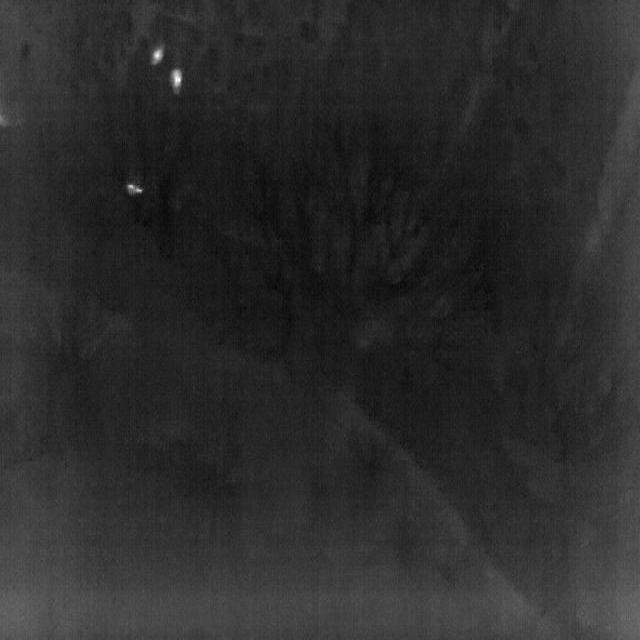deer: (170, 69, 182, 95), (151, 48, 164, 65), (127, 184, 143, 195)
